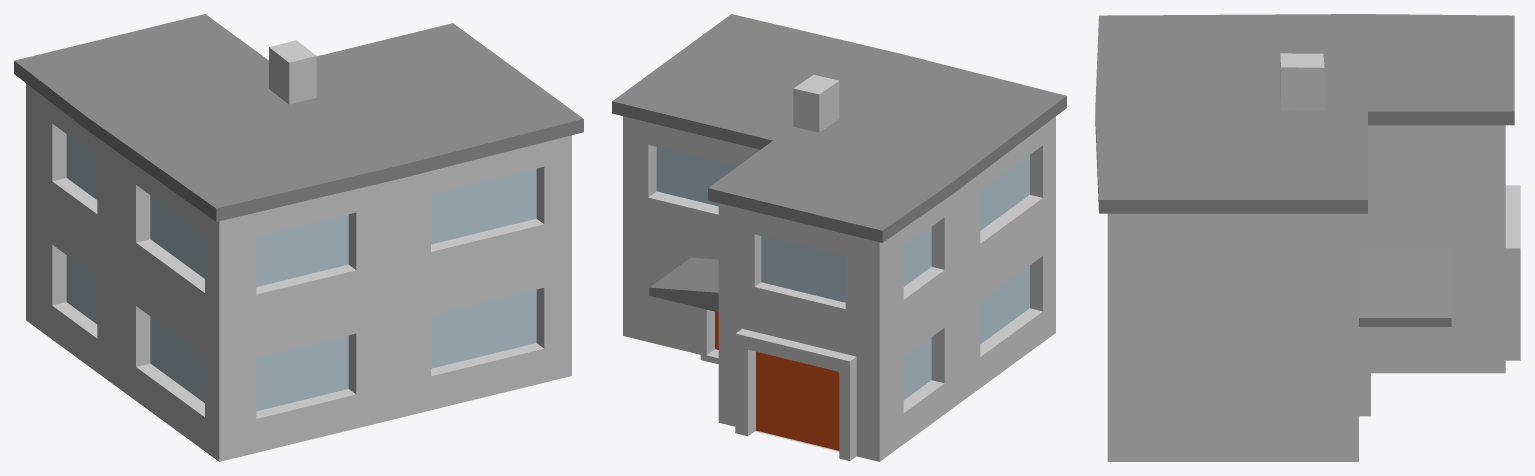
The model's file is house3.fbx.
The picture shows the model from 3 angles, left to right: view 1: azimuth 30°, elevation 25°; view 2: azimuth 150°, elevation 25°; view 3: azimuth 270°, elevation 25°; orthographic projection. The views are drawn at different scales.
Parts seen in each view (by area): view 1: Cube; view 2: Cube; view 3: Cube.
Boxes of the visible parts, x1,y1,x2,y2 form: Cube: (14,14,583,461); Cube: (612,14,1066,461); Cube: (1095,14,1520,461).
Size of the model in its own units: 105 by 81.34 by 102.
